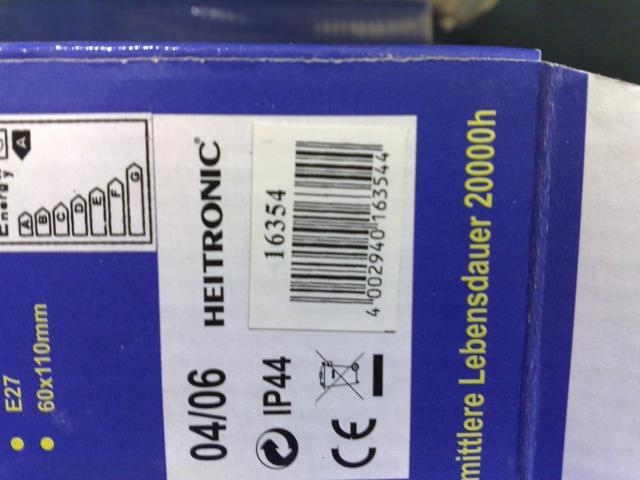Barcode: (289, 131, 399, 327)
